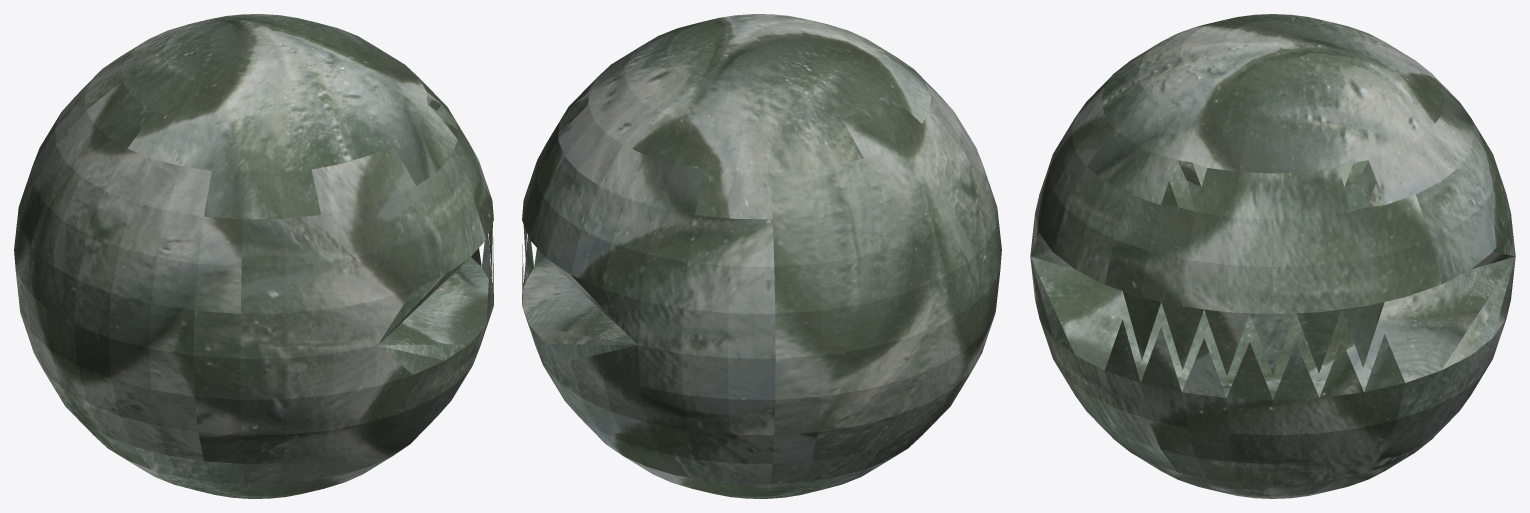
Rendered from head.obj.
3 renders of one model, left to right at view 1: azimuth 30°, elevation 25°; view 2: azimuth 150°, elevation 25°; view 3: azimuth 270°, elevation 25°, orthographic.
Parts seen in each view (by area): view 1: Sphere; view 2: Sphere; view 3: Sphere.
Part boxes in pixels (x1,y1,x2,y2): Sphere: [14, 14, 493, 498]; Sphere: [522, 14, 1001, 498]; Sphere: [1030, 14, 1515, 498].
Bounding box in the file's own units: 10.98 × 11.08 × 11.08.
